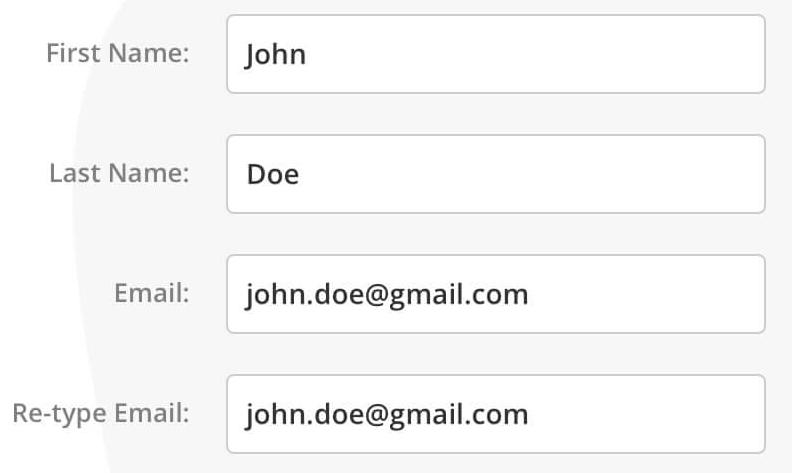field: (217, 371, 767, 455), (217, 253, 767, 336), (220, 15, 769, 97), (224, 134, 768, 215)
field_with_label: (14, 363, 775, 459), (48, 127, 775, 223), (44, 9, 771, 102), (116, 248, 769, 341)
